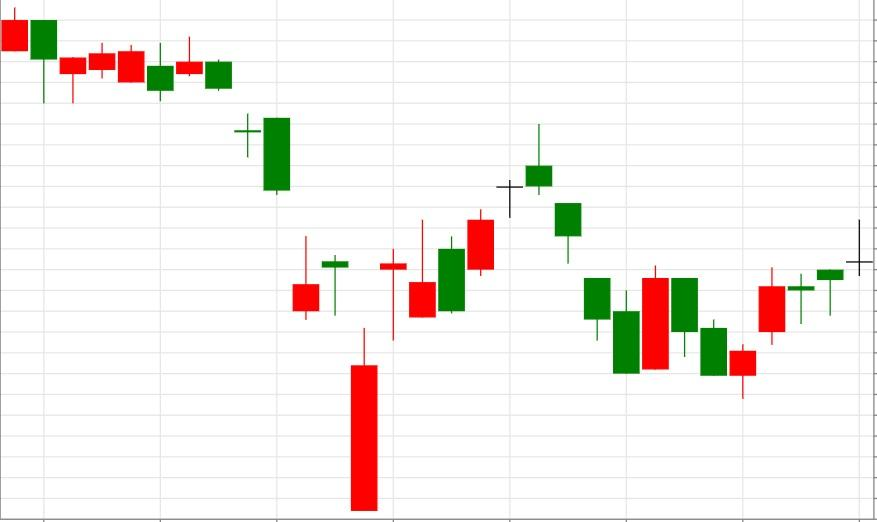bullish_engulfing_rise: (525, 122, 670, 375)
three_black_crows_fall: (349, 123, 612, 510)
